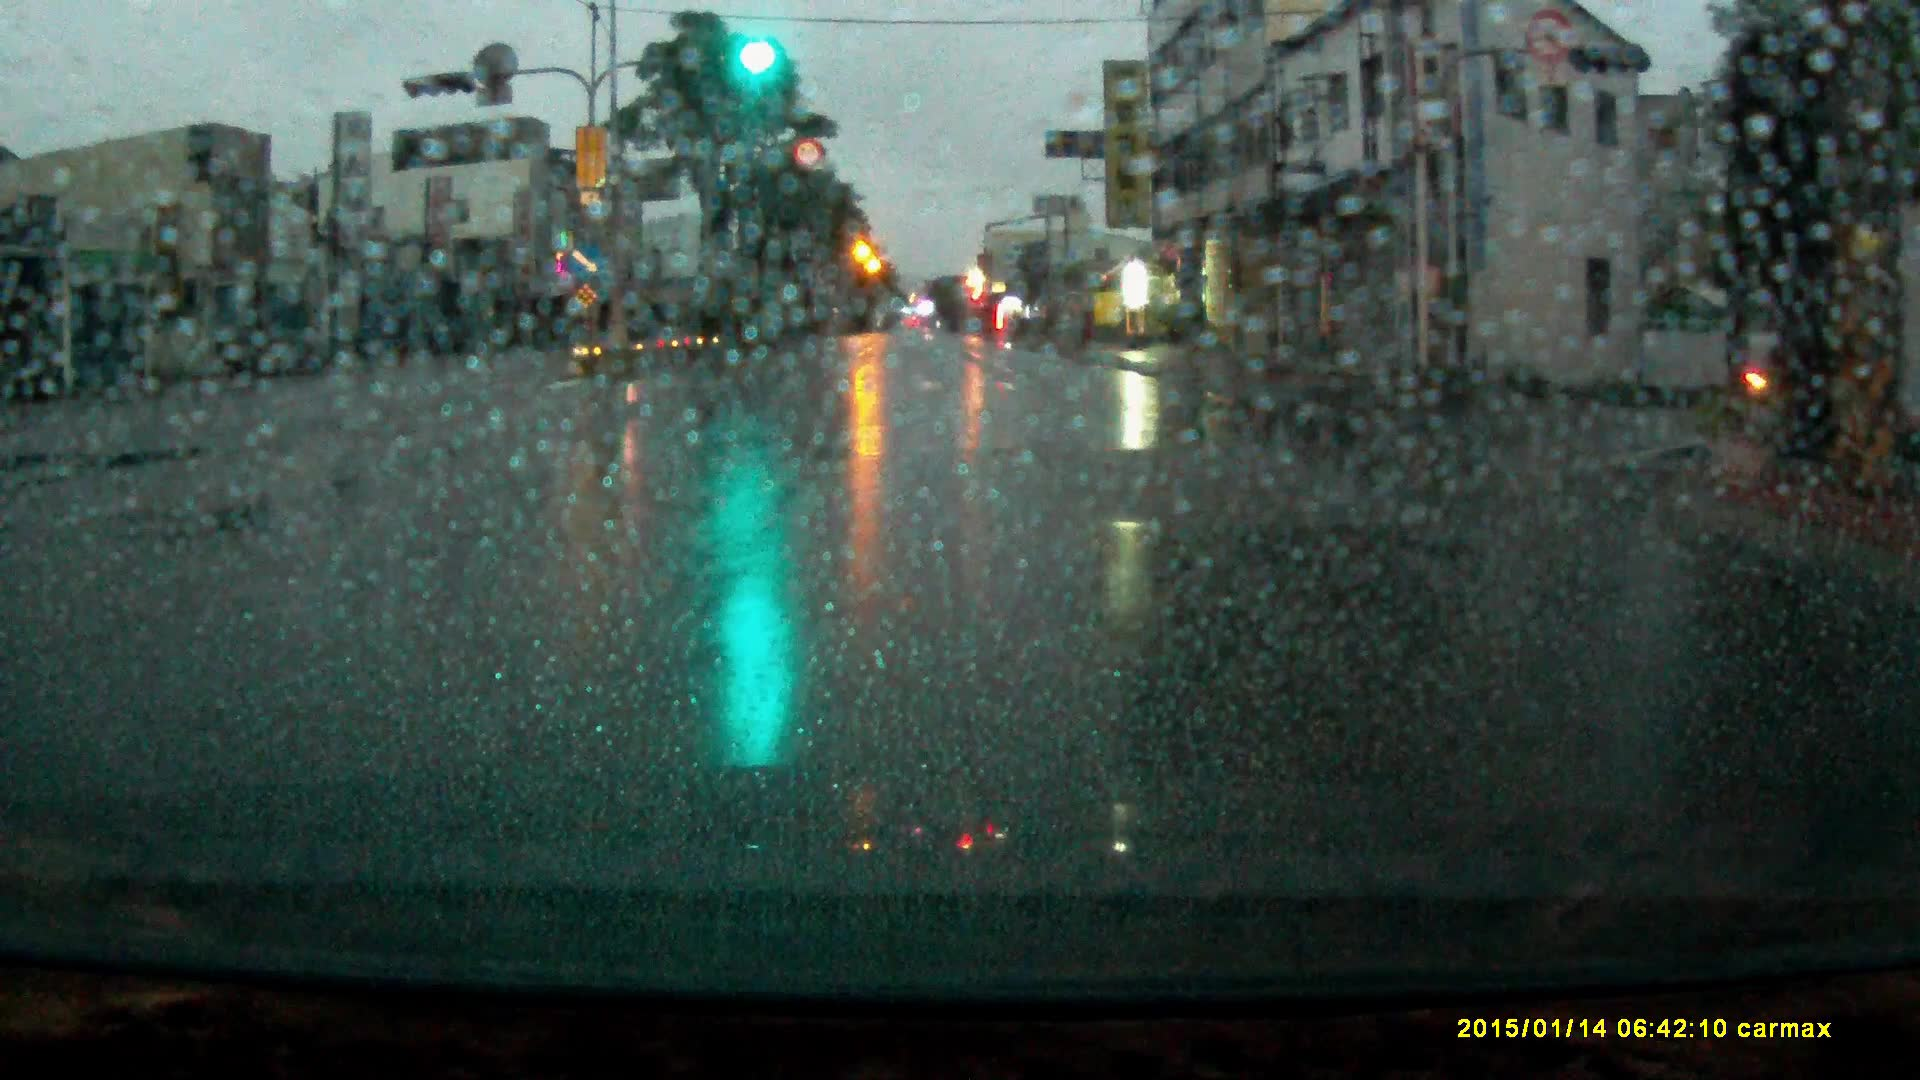rider: (1742, 305, 1807, 417)
